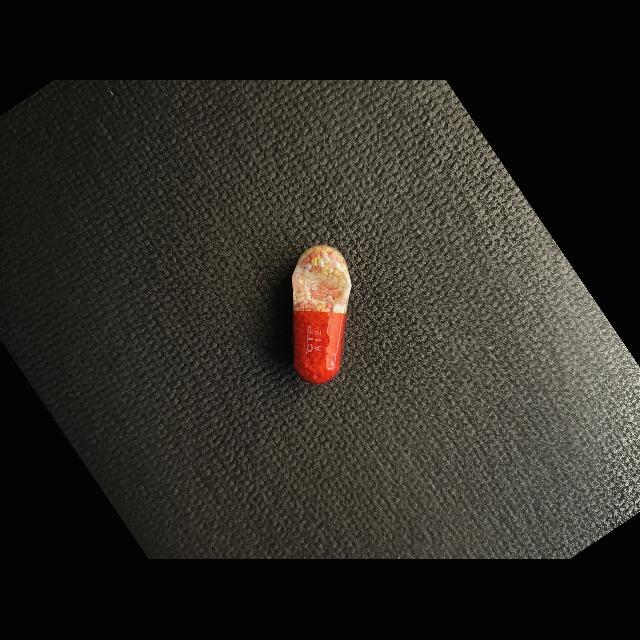Defective Capsule: (292, 245, 352, 385)
